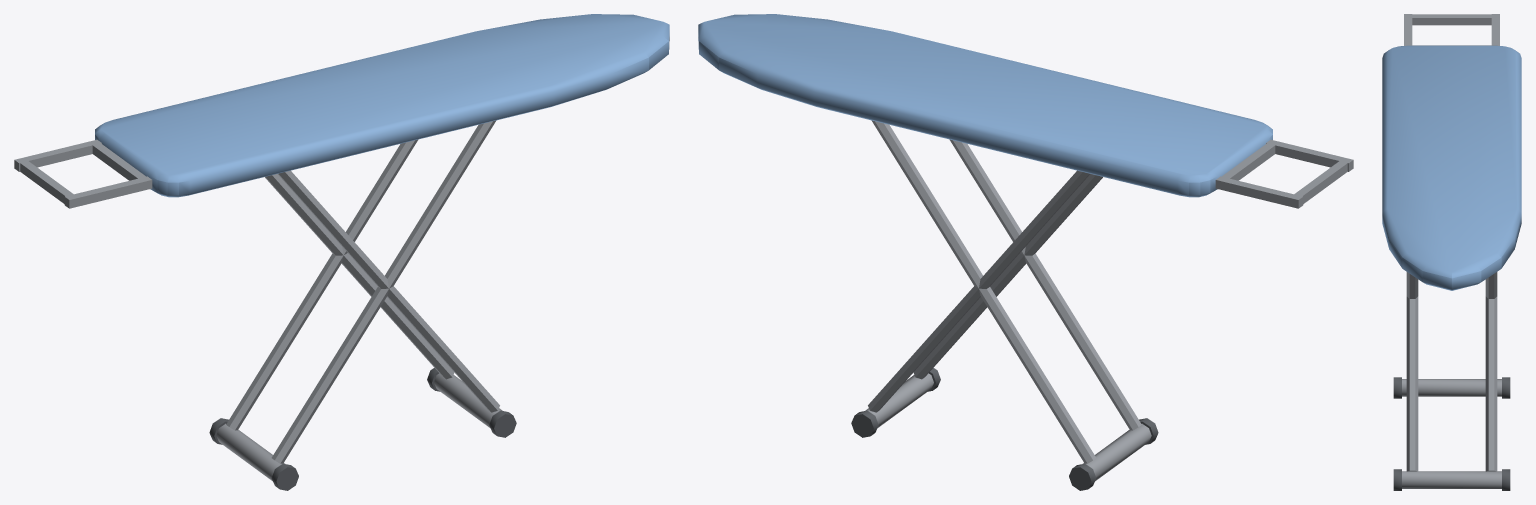
File: IroningBoardI01.glb
3 renders of one model, left to right at view 1: azimuth 30°, elevation 25°; view 2: azimuth 150°, elevation 25°; view 3: azimuth 270°, elevation 25°, orthographic. The views are drawn at different scales.
Parts seen in each view (by area): view 1: Body_Cover, Body_Frame, Body_Caps; view 2: Body_Cover, Body_Frame, Body_Caps; view 3: Body_Cover, Body_Frame, Body_Caps.
Part boxes in pixels (x1,y1,x2,y2): Body_Cover: (95,14,669,197); Body_Frame: (14,120,502,481); Body_Caps: (209,368,516,490); Body_Cover: (698,14,1272,197); Body_Frame: (865,120,1353,481); Body_Caps: (851,368,1158,490); Body_Cover: (1382,45,1521,290); Body_Frame: (1402,14,1501,488); Body_Caps: (1393,377,1510,490).
Size of the model in its own units: 6.06 by 3.18 by 1.34.
